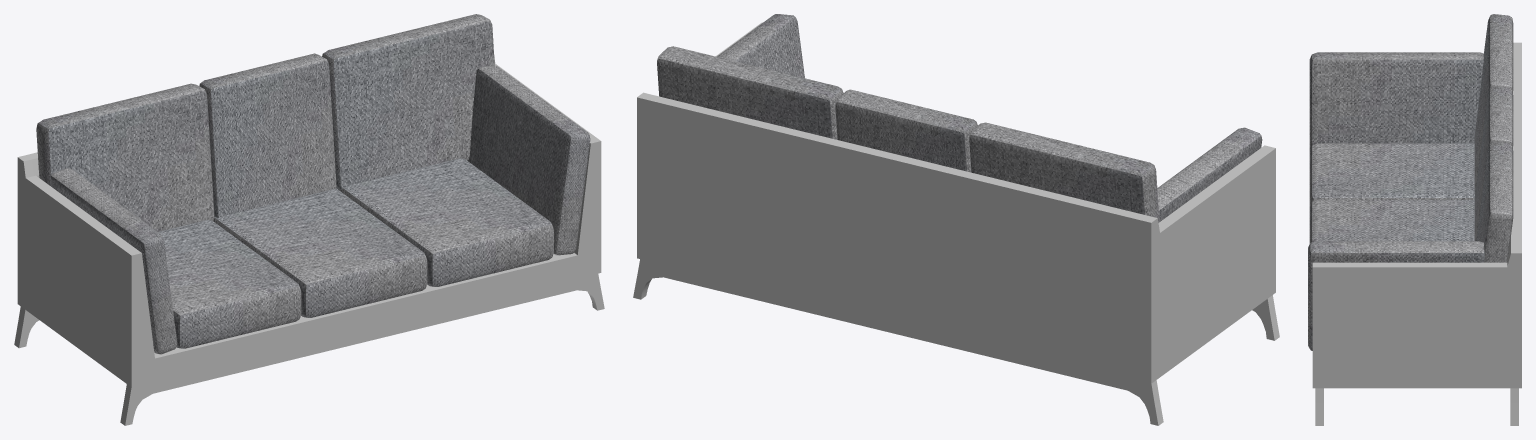
File: Couch.fbx
3 renders of one model, left to right at view 1: azimuth 30°, elevation 25°; view 2: azimuth 150°, elevation 25°; view 3: azimuth 270°, elevation 25°, orthographic. The views are drawn at different scales.
Parts seen in each view (by area): view 1: pCube12; view 2: pCube12; view 3: pCube12.
Part boxes in pixels (x1,y1,x2,y2): pCube12: [14, 14, 604, 425]; pCube12: [633, 14, 1279, 425]; pCube12: [1308, 14, 1521, 425].
Bounding box in the file's own units: 21.6 × 9.69 × 9.08.
